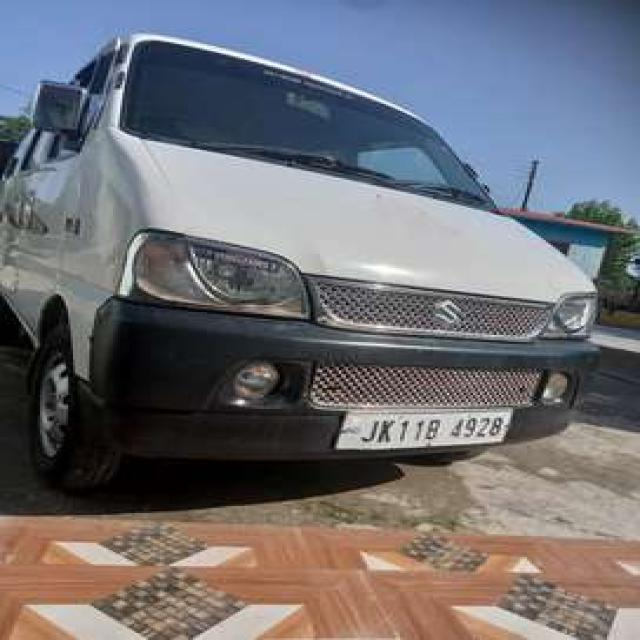license_plate: (326, 395, 524, 456)
